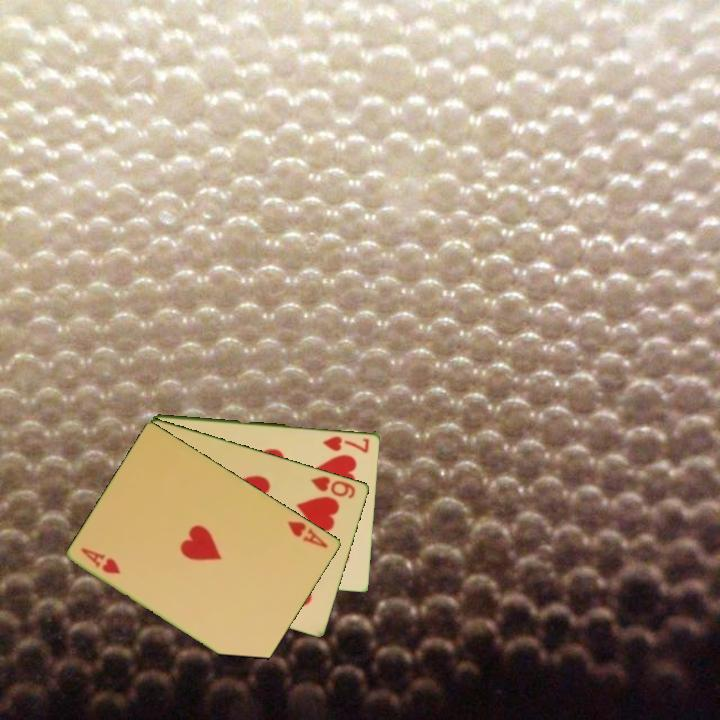6h: (307, 472, 359, 501)
7h: (320, 432, 372, 455)
Ah: (284, 517, 331, 551), (78, 544, 124, 577)
